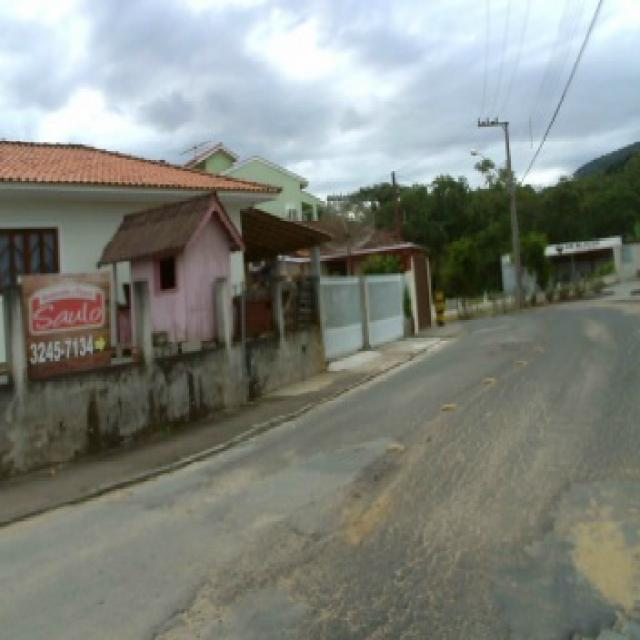Poth-hole: (143, 556, 334, 636), (560, 600, 636, 636), (280, 511, 338, 545), (382, 438, 405, 451), (436, 398, 458, 411), (479, 373, 496, 382), (510, 356, 526, 362)
